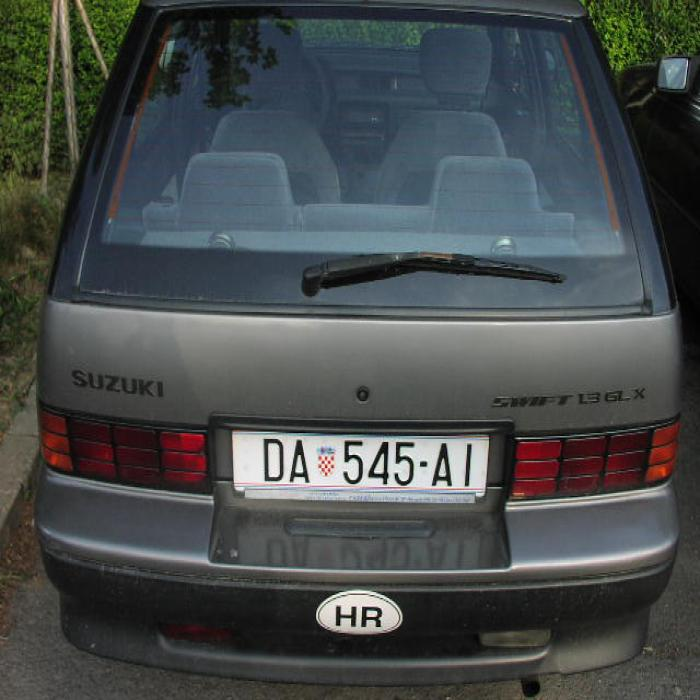number_plate: (231, 430, 483, 492)
